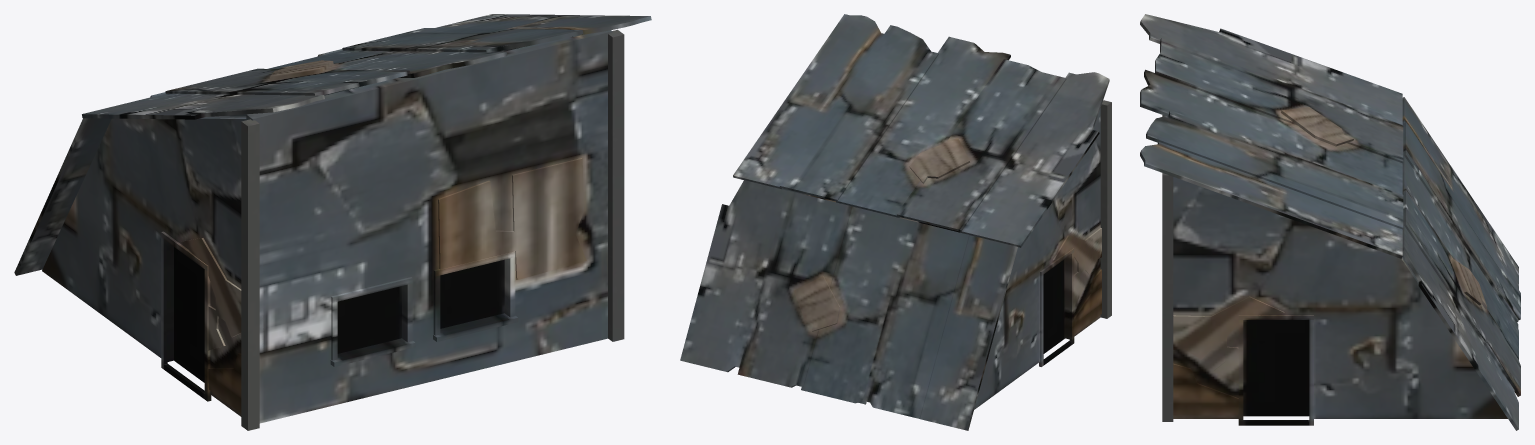
File: crashshanty2_cad.glb
3 views of the same model, side by side, from view 1: azimuth 30°, elevation 25°; view 2: azimuth 150°, elevation 25°; view 3: azimuth 270°, elevation 25° (orthographic). The views are drawn at different scales.
Parts seen in each view (by area): view 1: CrashShanty; view 2: CrashShanty; view 3: CrashShanty.
Part boxes in pixels (x1=…): CrashShanty: x1=14, y1=14, x2=651, y2=430; CrashShanty: x1=680, y1=14, x2=1111, y2=430; CrashShanty: x1=1140, y1=14, x2=1520, y2=430.
Bounding box in the file's own units: 5.73 × 4.43 × 5.63.
Materials: 1 (1 with a texture image).
